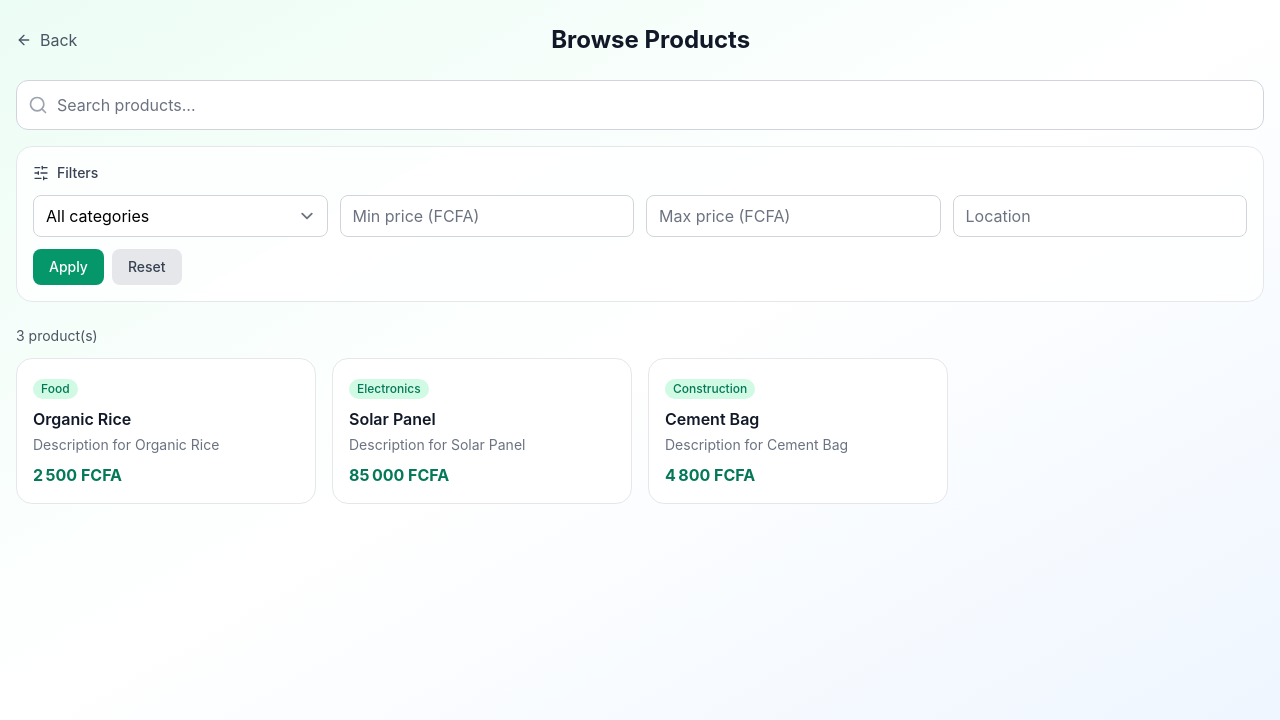
Test: BrowsePage › resets all filters to clear the current query
Expected: the heading "Organic Rice" is shown, [33,409,131,429]
Select "Electronics" in the dropdown with test id "filter-category" at (180,216), box [33,195,328,237]
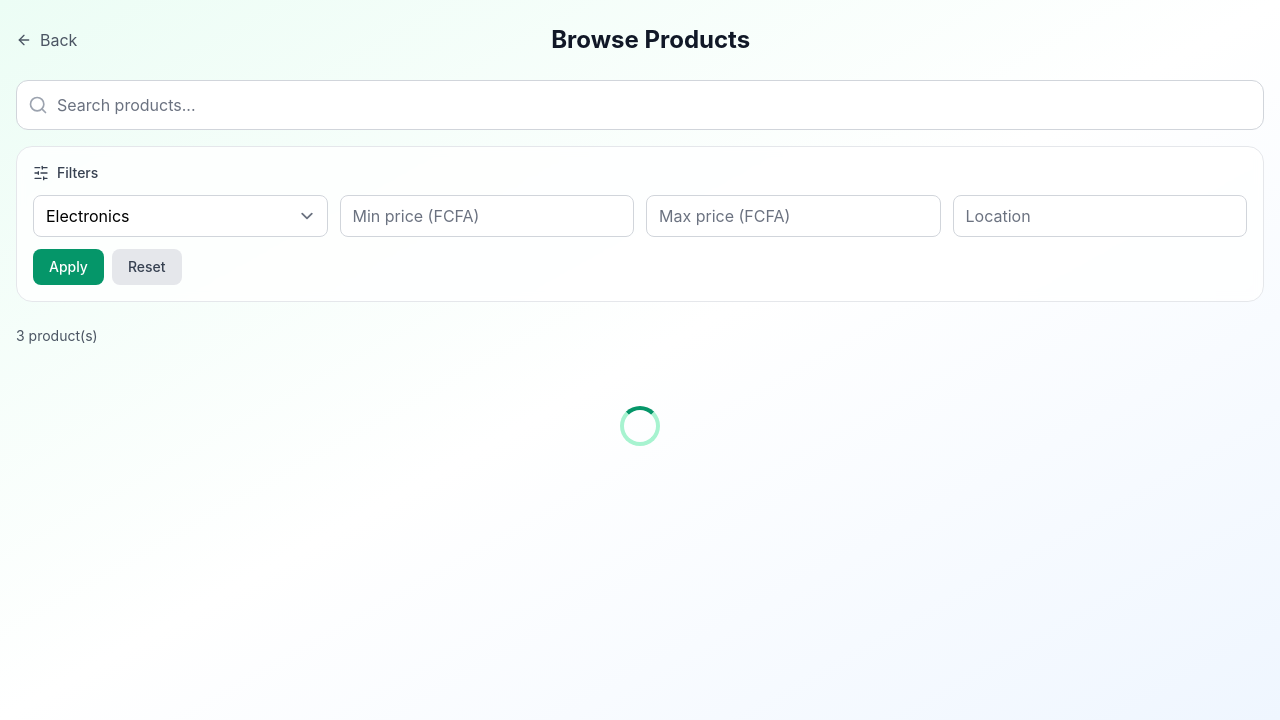
Type "panel" into the field with test id "search-input" at (640,105), box [16,80,1264,130]
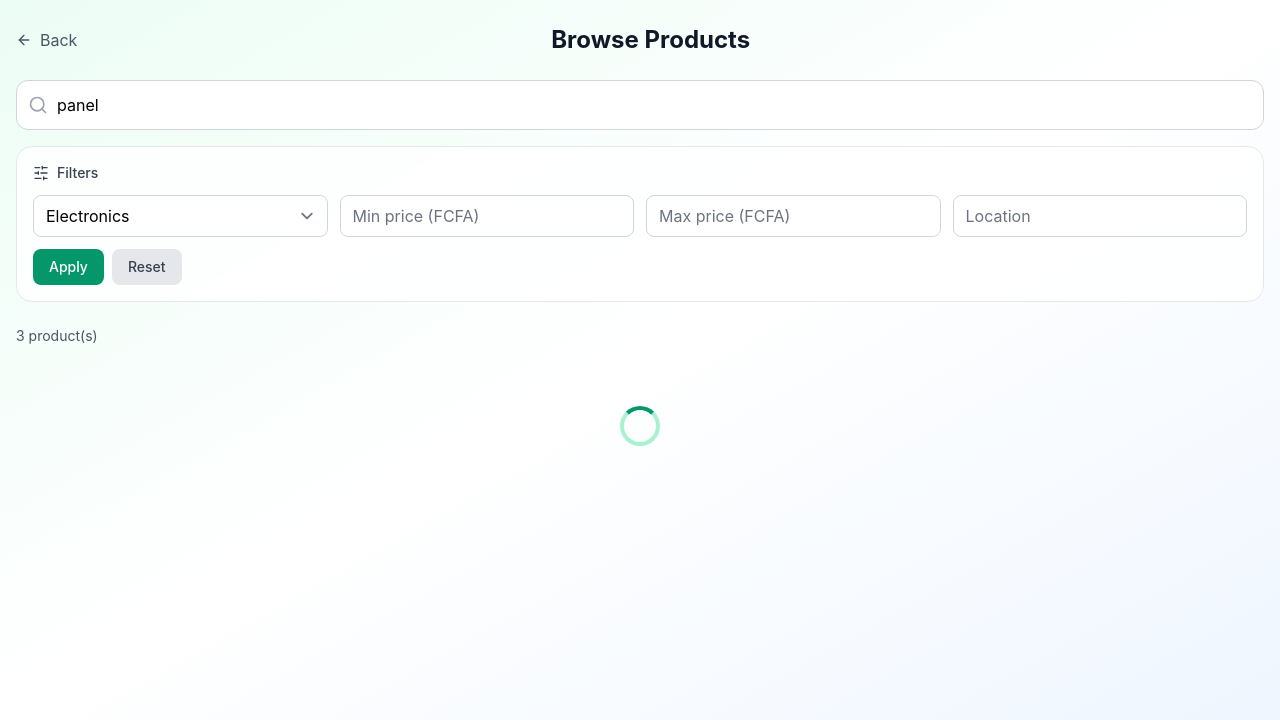
Click the button with test id "reset-filters" at (147,267), box [112,249,182,285]
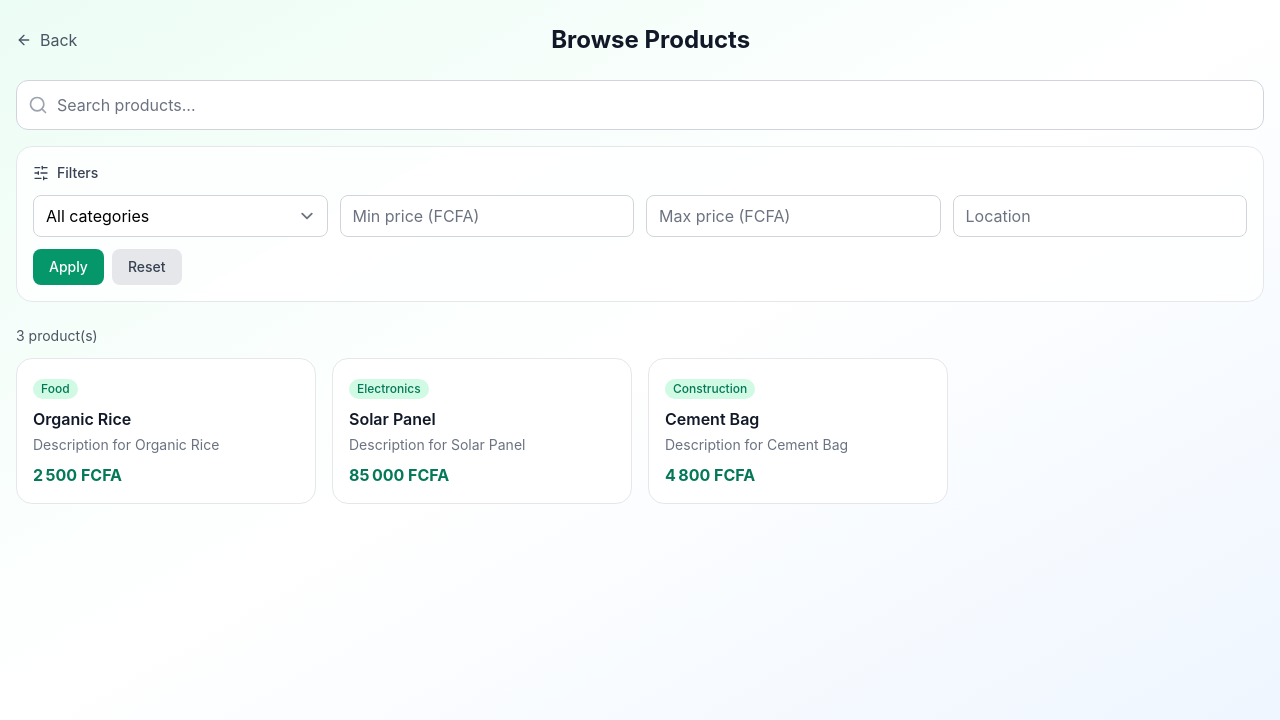
Result: the field with test id "search-input" is empty at [16,80,1264,130]
